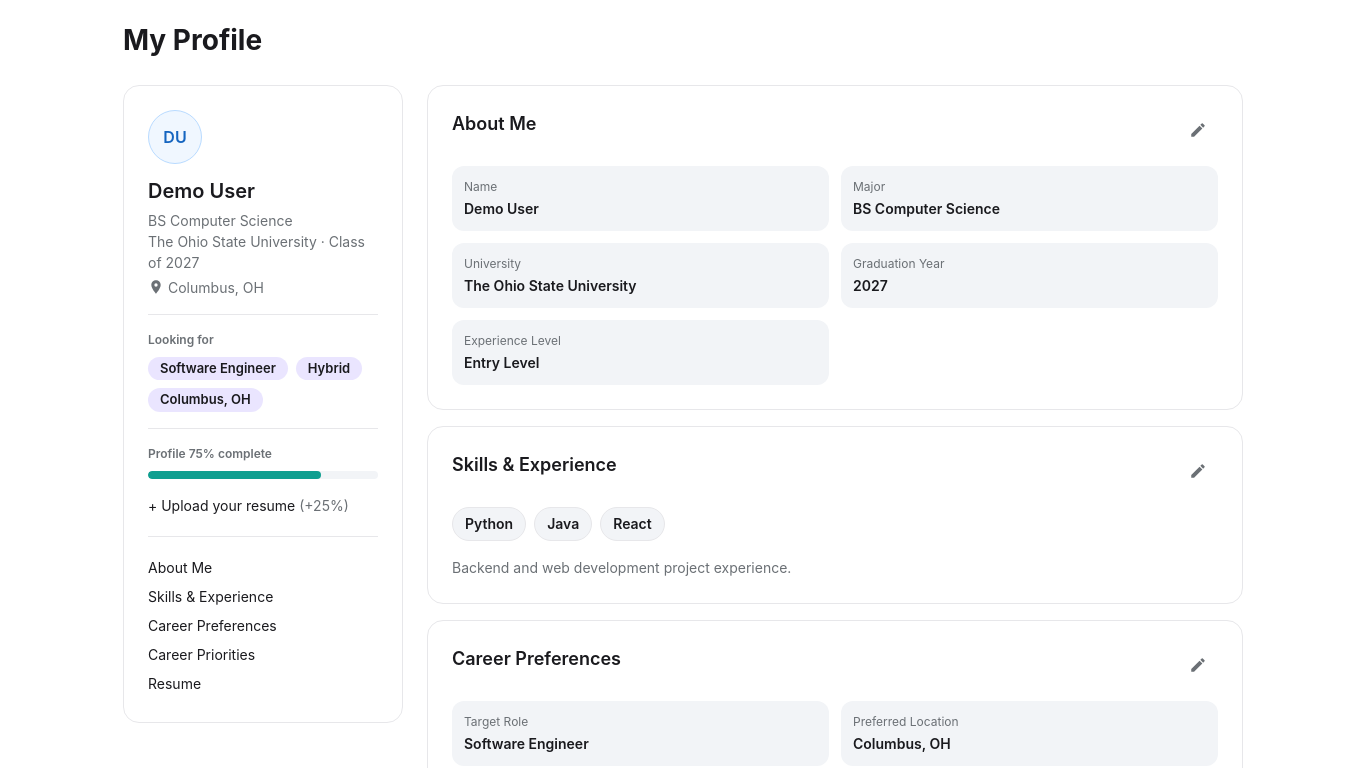
ProfileView › updates the overview after saving preferences
Click the button named "Edit Career Preferences" at (1198, 665), box [1178,645,1218,685]
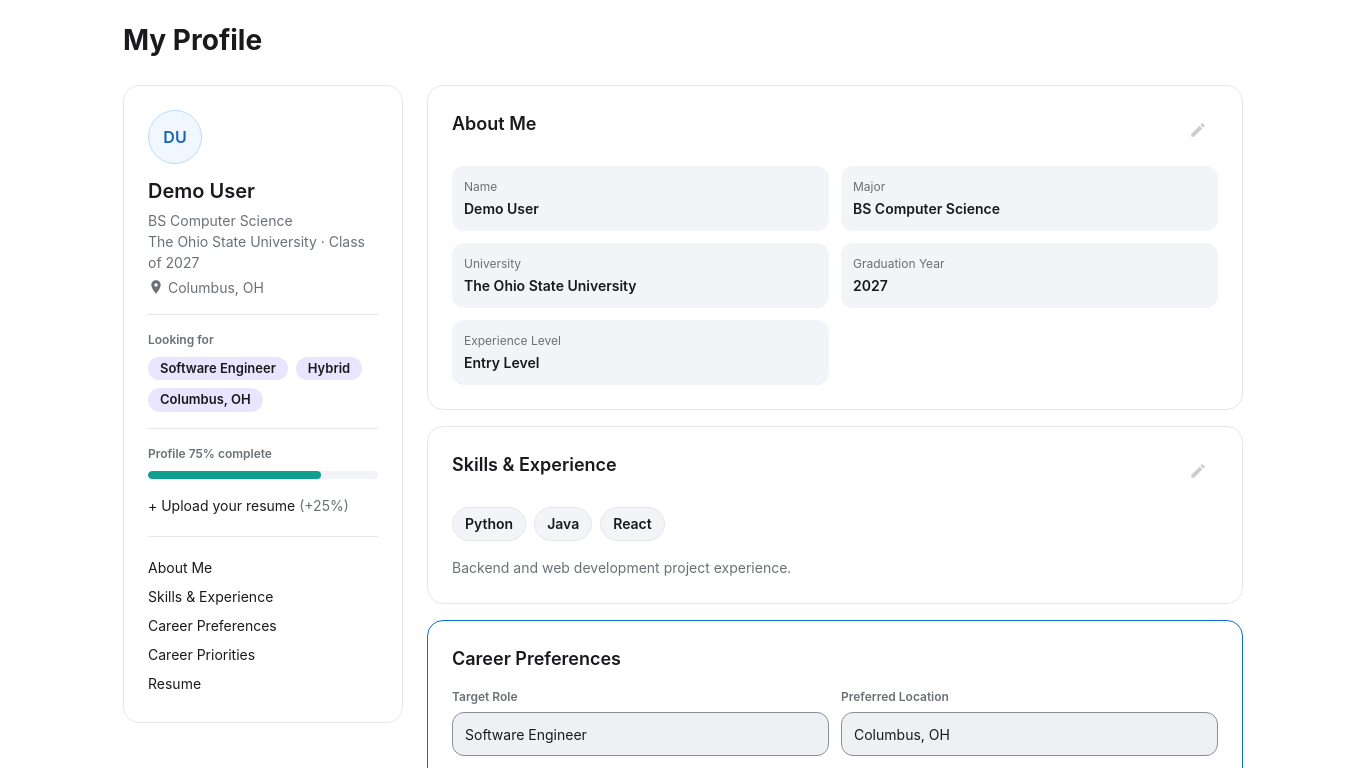
Replace the text in the field labelled "Target Role" with "Frontend Engineer" at (640, 734), box [452,712,829,756]
(page scrolled)
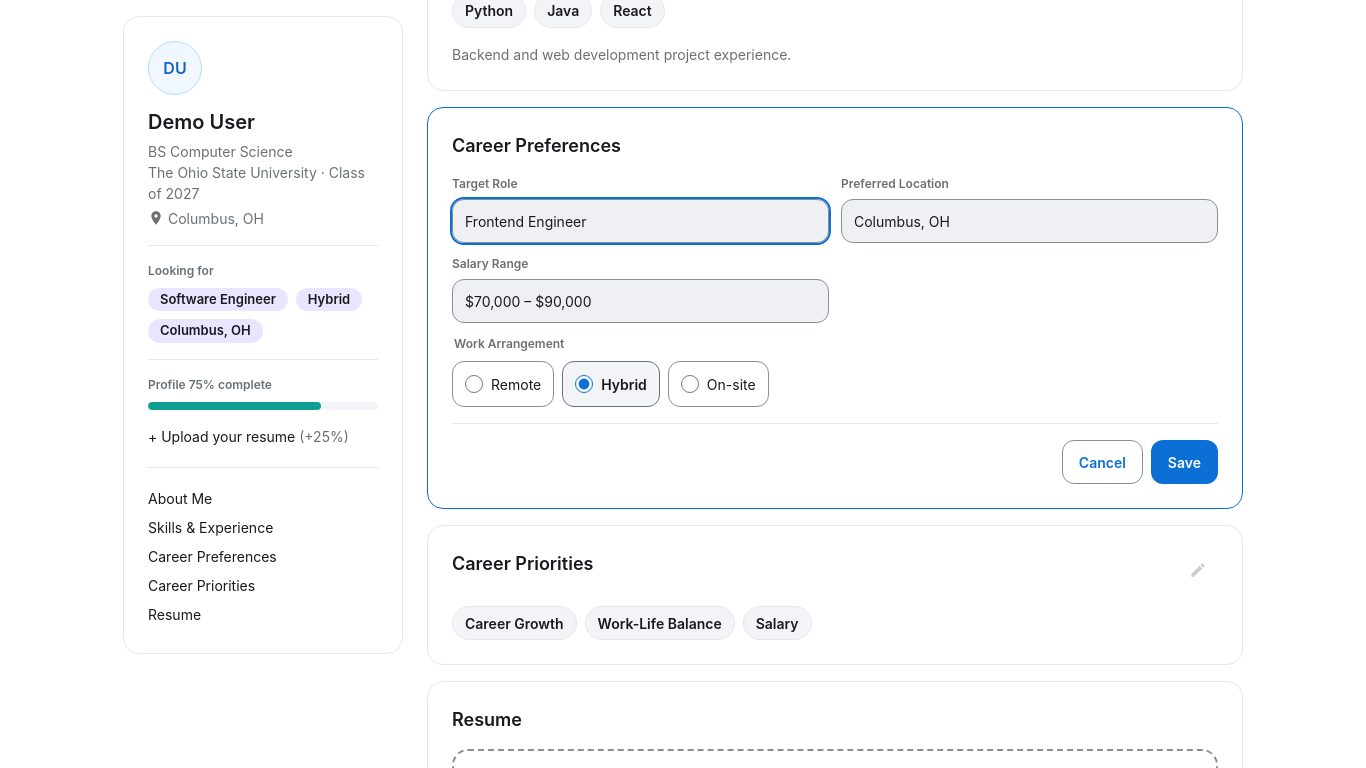
Click the radio button labelled "Remote" at (474, 384), box [465,362,483,406]
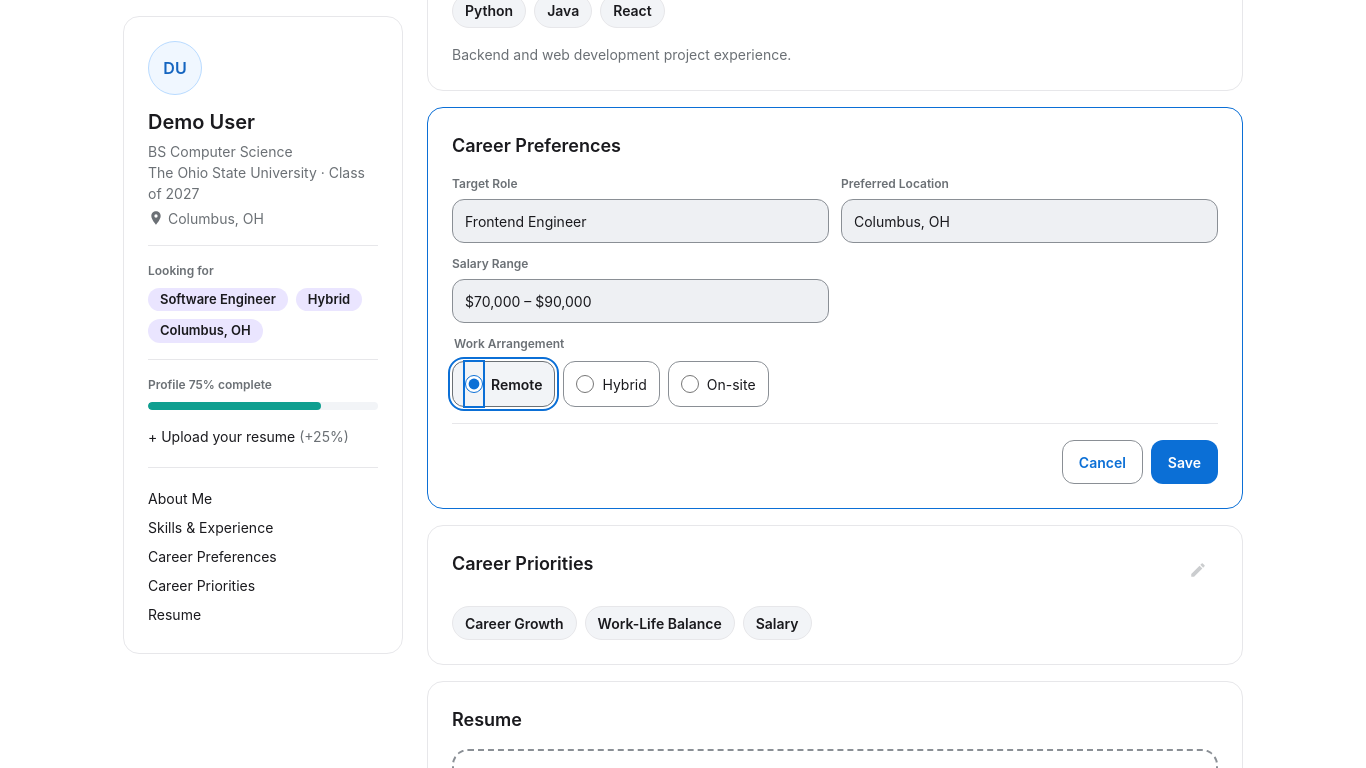
Click the button "Save" at (1184, 462), box [1151,440,1218,484]
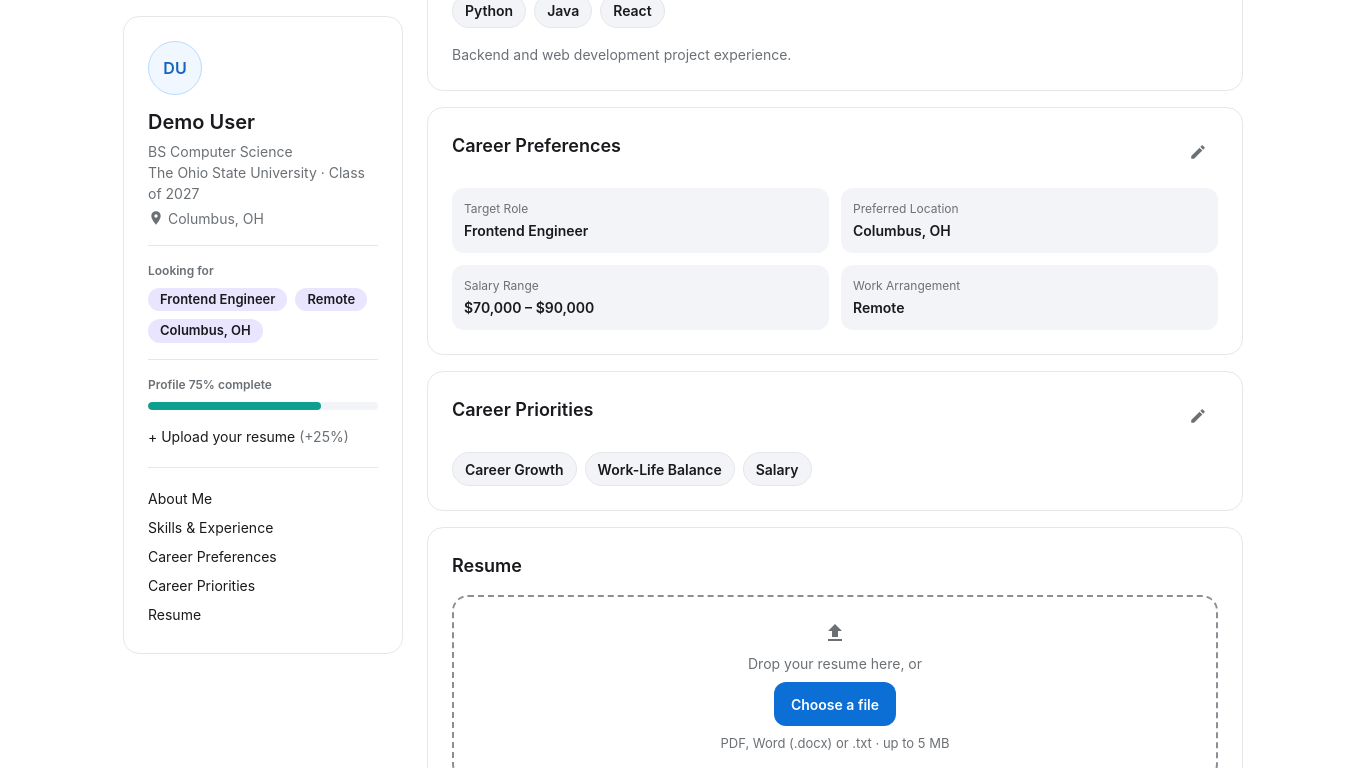
expect the text "Frontend Engineer" is shown: met, box [464,222,588,239]
expect the list named "Looking for" reads "Frontend Engineer Remote Columbus, OH": met, box [148,288,378,343]
